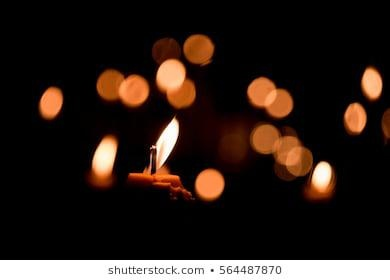fire: (90, 131, 118, 185), (152, 115, 179, 170)
